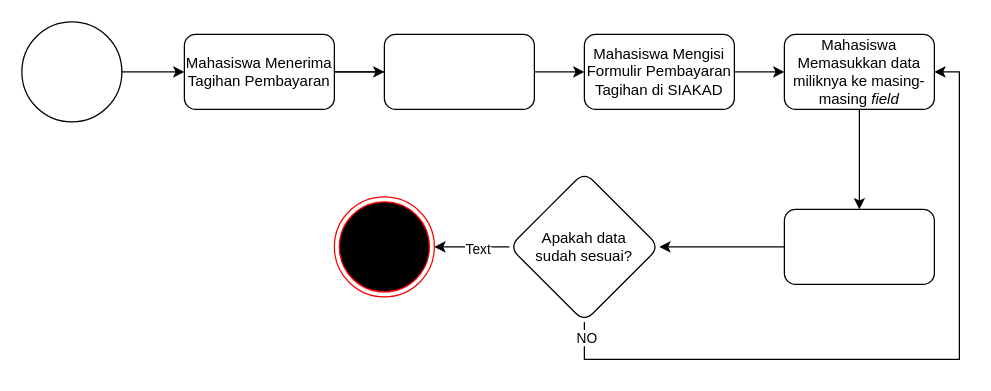
This 991x391 diagram has some shape labels left out. Here are the shapes that lost their labels. From the top down, the centre of each, then its label:
At point 71,71: "Mulai".
At point 458,71: "Mahasiswa Melakukan Pembayaran melalui Transfer ATM/Bank".
At point 858,246: "Mahasiswa Mengunggah Foto Bukti Pembayaran".
